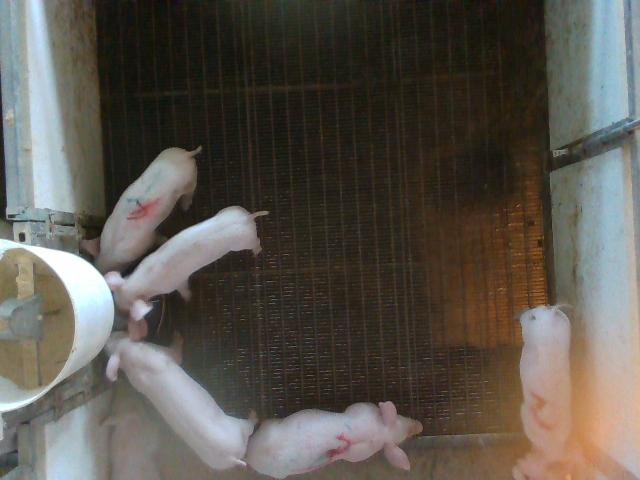pig-2: (520, 306, 571, 459)
pig-3: (245, 402, 422, 478)
pig-4: (80, 148, 199, 273)
